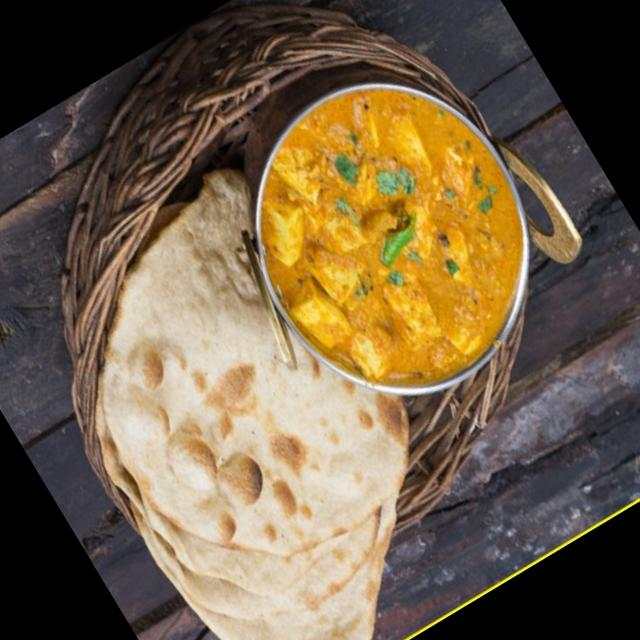ShahiPaneer: (208, 53, 582, 440)
